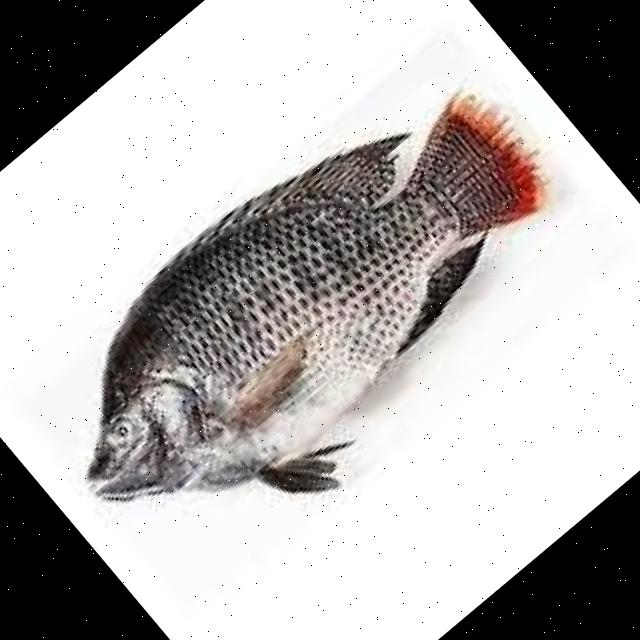ikan: (4, 28, 622, 612)
